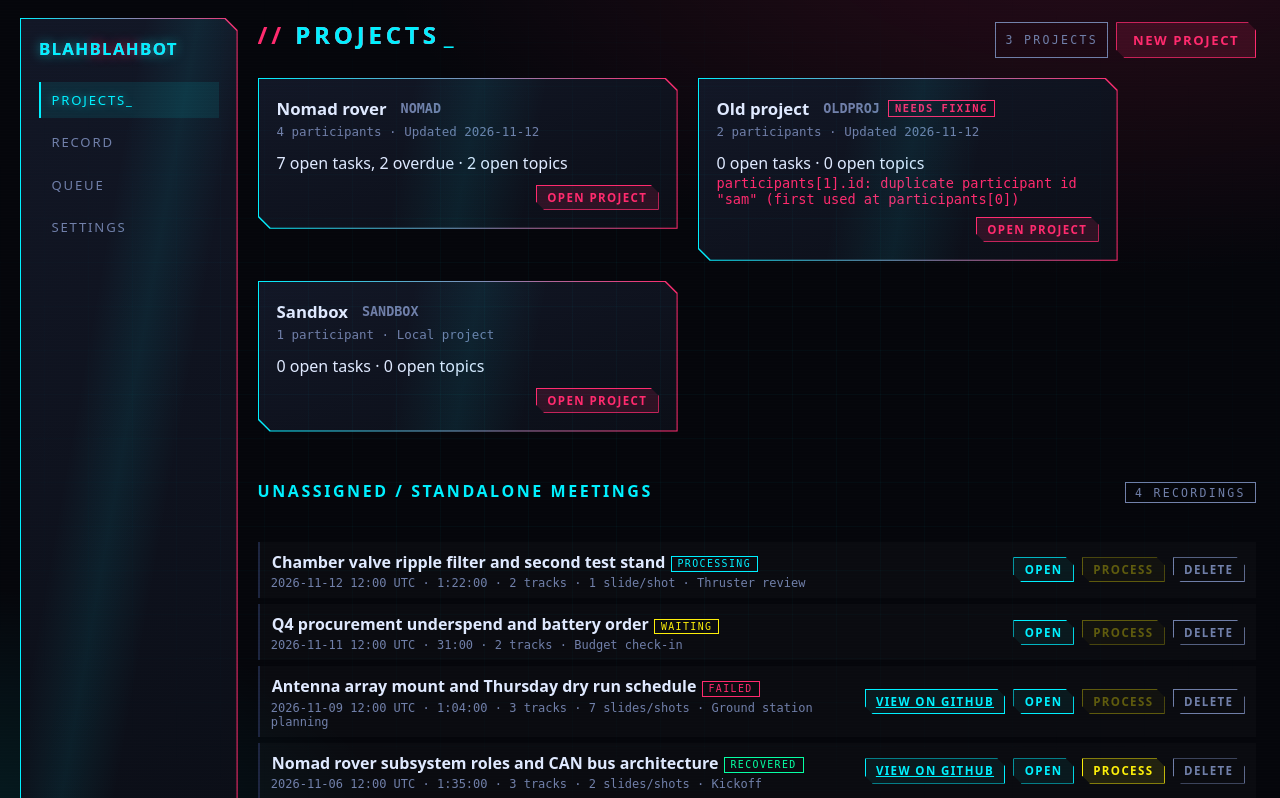
it: RecordView › opens ProcessPrompt modal with backend selection when stopping in Main Record view
Click the button "Record".
click(129, 142)  # box [39,124,219,161]
(page scrolled)
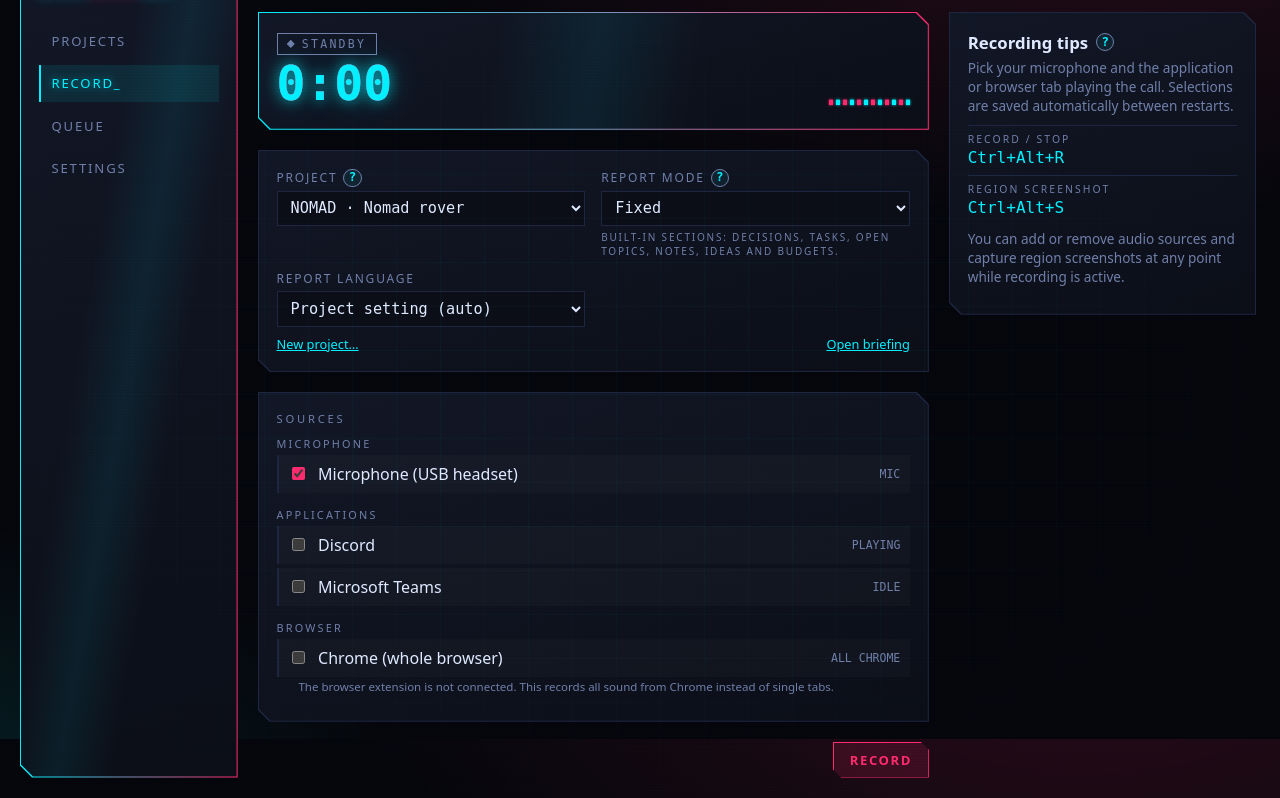
Click the button with class "btn-record".
click(881, 760)  # box [833,742,929,778]
(page scrolled)
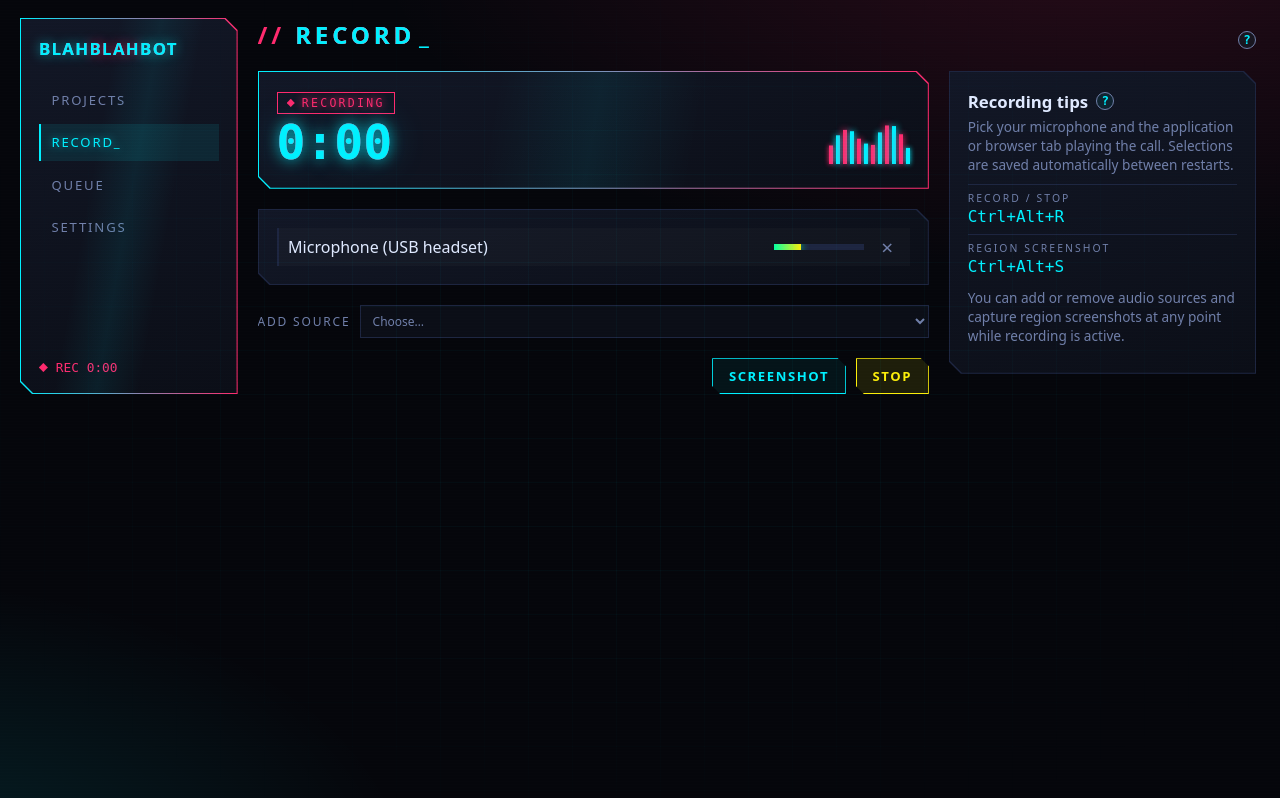
Click the button with class "btn-stop".
click(892, 376)  # box [856,358,929,394]
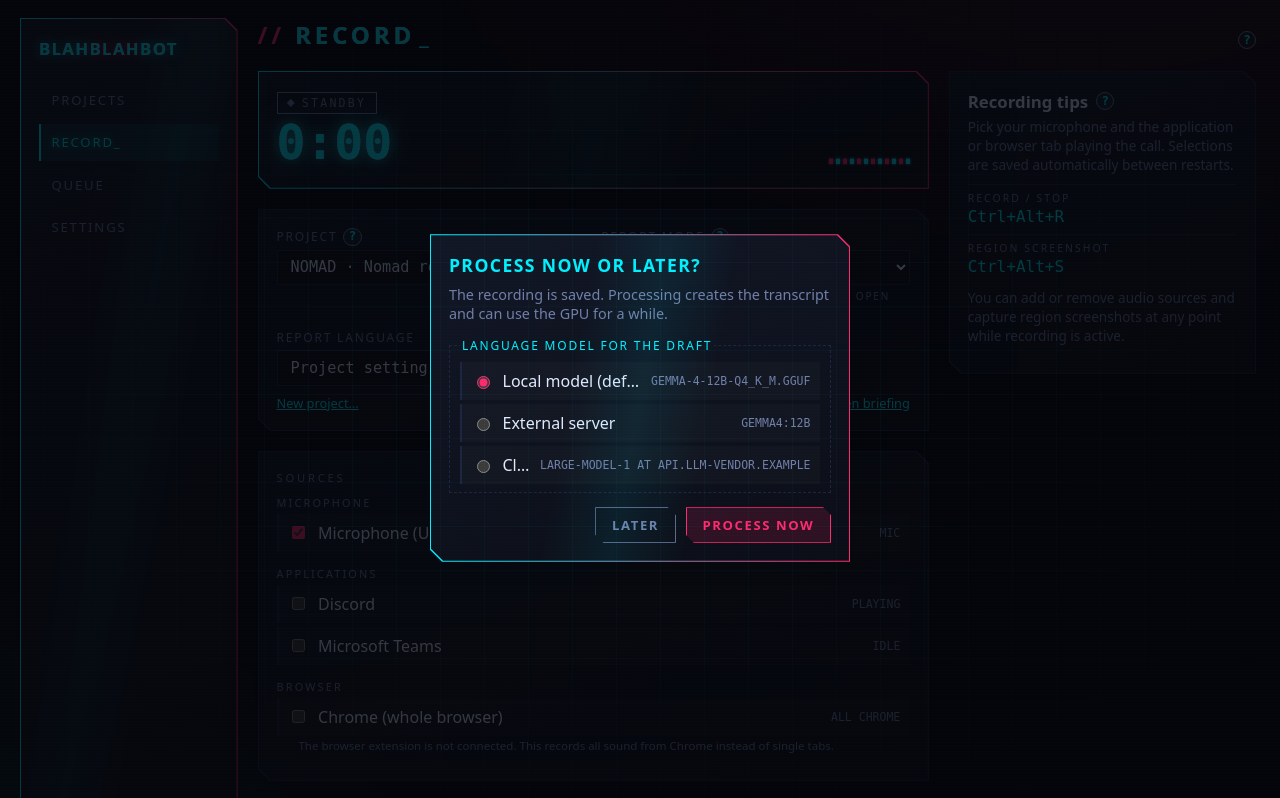
Result: the number of dialogs is 1 at [430,234,850,562]
Result: the dialog shows "Process now or later?" at [449,253,701,277]
Result: the dialog shows "Local model" at [502,370,593,392]
